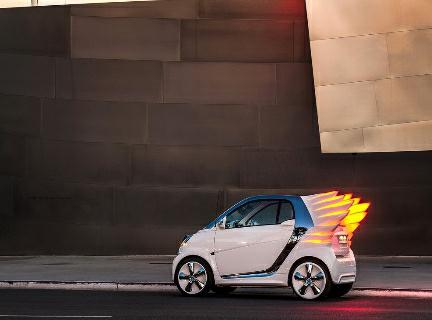smart-forjeremy: (172, 197, 353, 300)
